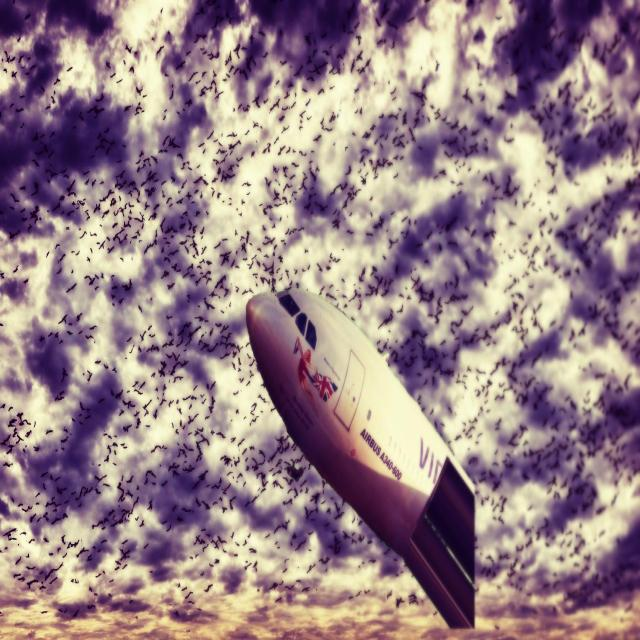airplane: (245, 286, 478, 629)
